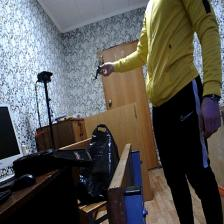drone: (89, 57, 108, 85)
